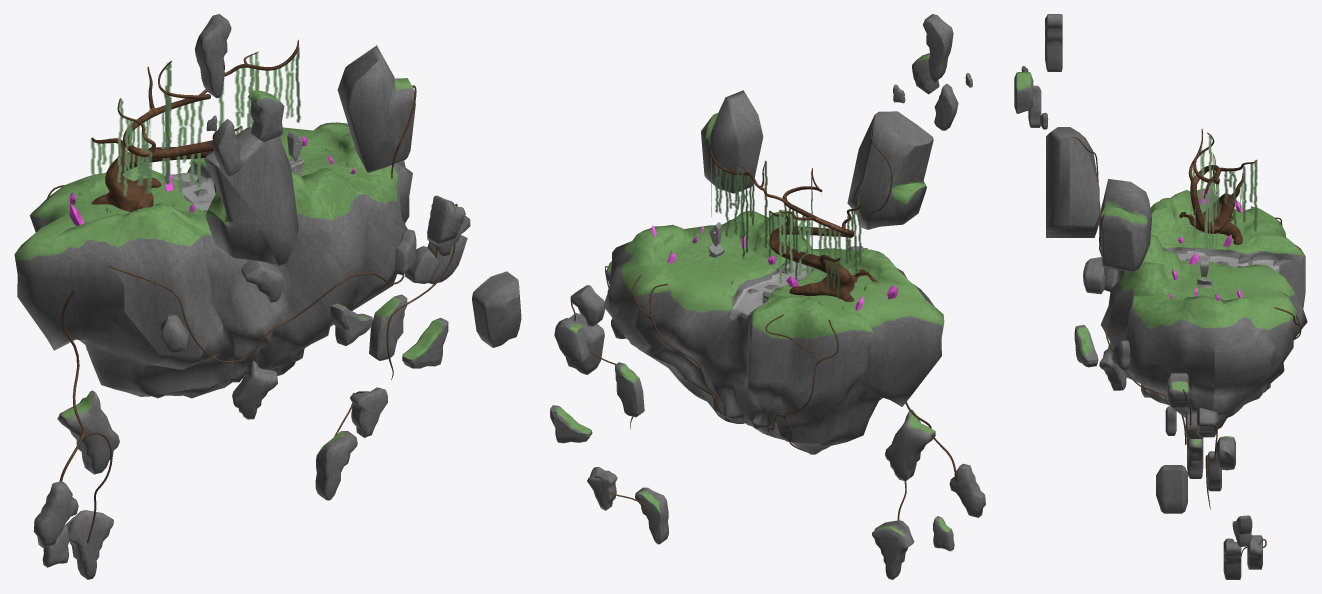
Rendered from fantasy_floating_island.glb.
The picture shows the model from 3 angles, left to right: view 1: azimuth 30°, elevation 25°; view 2: azimuth 150°, elevation 25°; view 3: azimuth 270°, elevation 25°; orthographic projection. The views are drawn at different scales.
Visible parts, largest first — view 1: Island; view 2: Island; view 3: Island.
Part boxes in pixels (<box>): Island: <box>14,14,521,579</box>; Island: <box>550,14,985,579</box>; Island: <box>1014,14,1307,579</box>.
Bounding box in the file's own units: 3.9 × 4.64 × 2.56.
Materials: 3 (3 with a texture image).
